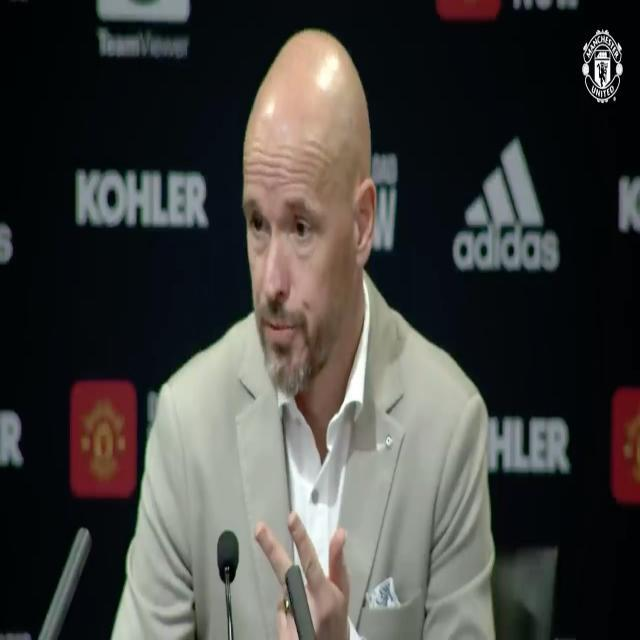Adidas: (453, 134, 560, 270)
Kohler: (75, 170, 208, 229)
TeamViewer: (95, 0, 190, 58)
